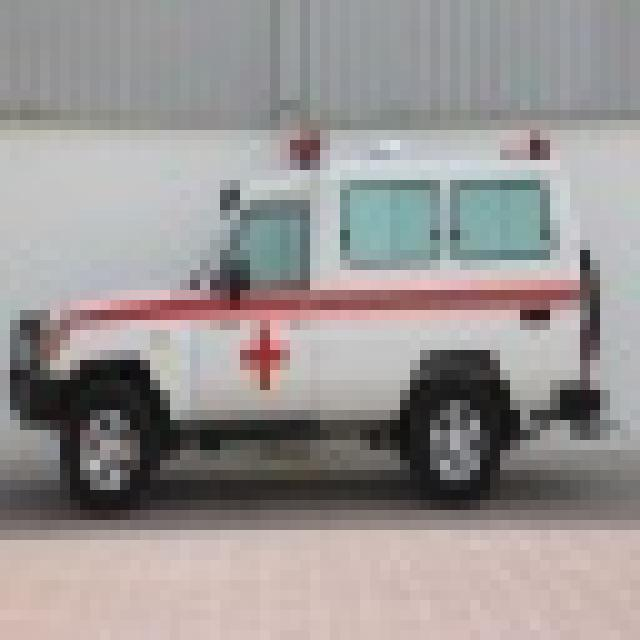Ambulance: (0, 120, 600, 500)
